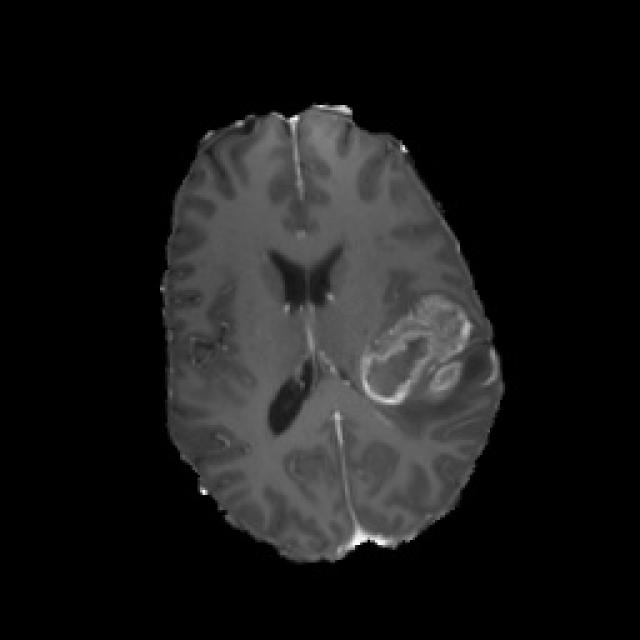negative: (358, 294, 472, 404)
